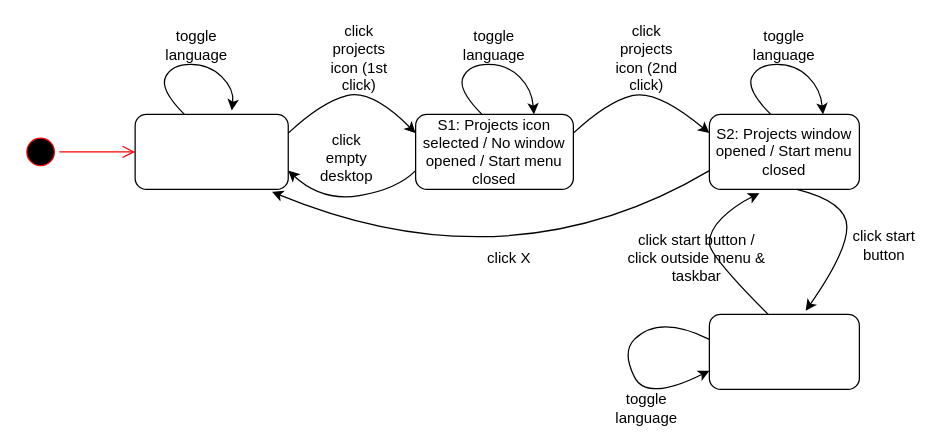
This 944x448 diagram has some shape labels left out. The shapes that lost their labels are listed below. From the top down, each one's box as (x1, y1, x2, y2) in pixels, then its label:
(134, 113, 288, 189): S0: No icon selected / No window opened / Start menu closed
(708, 313, 859, 389): S3: Projects window opened / Start menu opened
